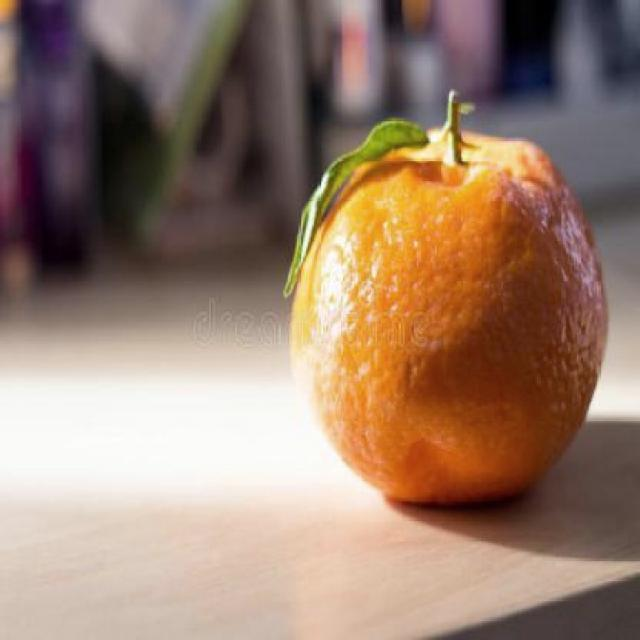Jeruk Sudah Matang: (286, 94, 609, 510)
